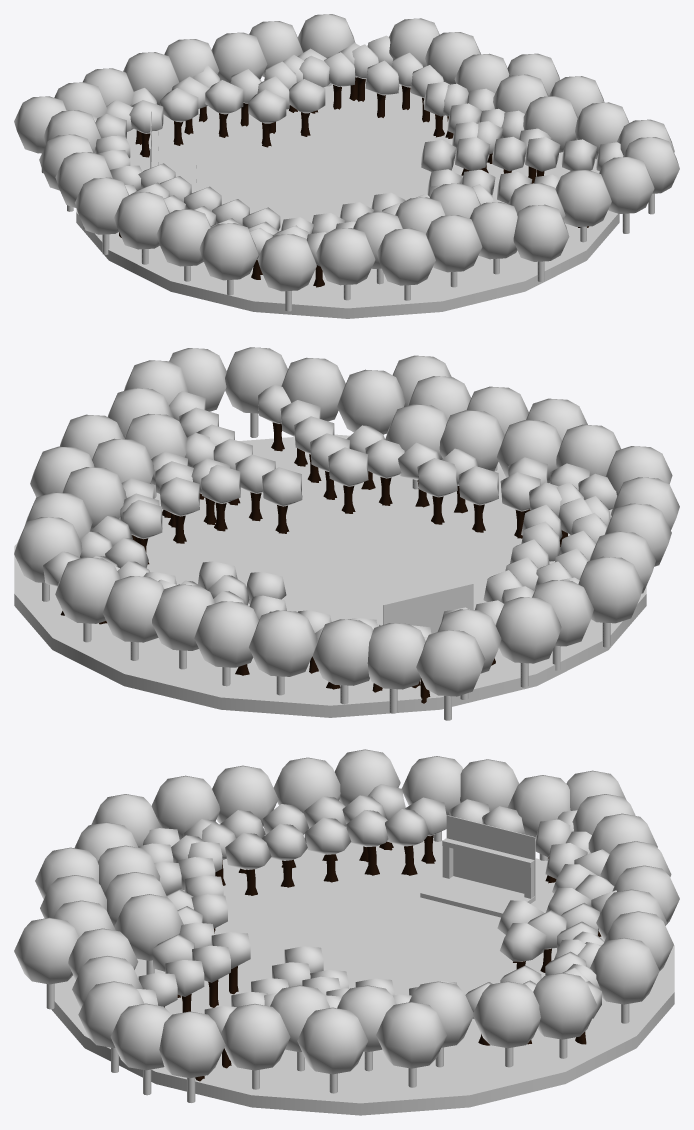
3 views of the same model, one above another, from view 1: azimuth 30°, elevation 25°; view 2: azimuth 150°, elevation 25°; view 3: azimuth 270°, elevation 25° (orthographic). The views are drawn at different scales.
Parts seen in each view (by area): view 1: big tree (×36), mark, stort träd, krona026, krona028, krona025, krona027, krona008, krona005, krona007, krona009, krona020 (+33 smaller); view 2: big tree (×36), mark, Box002, stort träd, krona012, krona015, krona002, krona020, krona006, krona004, krona, krona018 (+34 smaller); view 3: big tree (×36), mark, Box002, Box001, stort träd, krona027, krona035, krona032, krona034, krona033, krona031, krona016 (+31 smaller).
Part boxes in pixels (x1,y1,x2,y2): big tree (×36): (14,14,679,291); mark: (76,79,619,318); stort träd: (493,74,548,113); krona026: (205,80,243,114); krona028: (248,89,286,123); krona025: (160,88,198,122); krona027: (289,79,325,113); krona008: (525,137,560,171); krona005: (455,137,490,170); krona007: (492,136,525,171); krona009: (561,139,596,170); krona020: (421,140,456,171); big tree (×36): (14,347,679,696); mark: (14,434,646,717); Box002: (383,583,473,633); stort träd: (92,438,154,483); krona012: (458,466,498,505); krona015: (328,447,368,486); krona002: (159,477,199,516); krona020: (262,467,302,506); krona006: (417,458,457,497); krona004: (201,464,240,503); krona: (122,500,162,539); krona018: (365,439,404,478); big tree (×36): (14,749,679,1078); mark: (51,839,674,1115); Box002: (446,815,535,900); Box001: (420,876,534,917); stort träd: (337,985,396,1052); krona027: (500,923,546,961); krona035: (225,832,271,869); krona032: (305,817,351,854); krona034: (385,809,429,846); krona033: (346,810,388,846); krona031: (262,823,307,860); krona016: (192,945,230,982).
Size of the model in its own units: 1346 by 202 by 1297.
